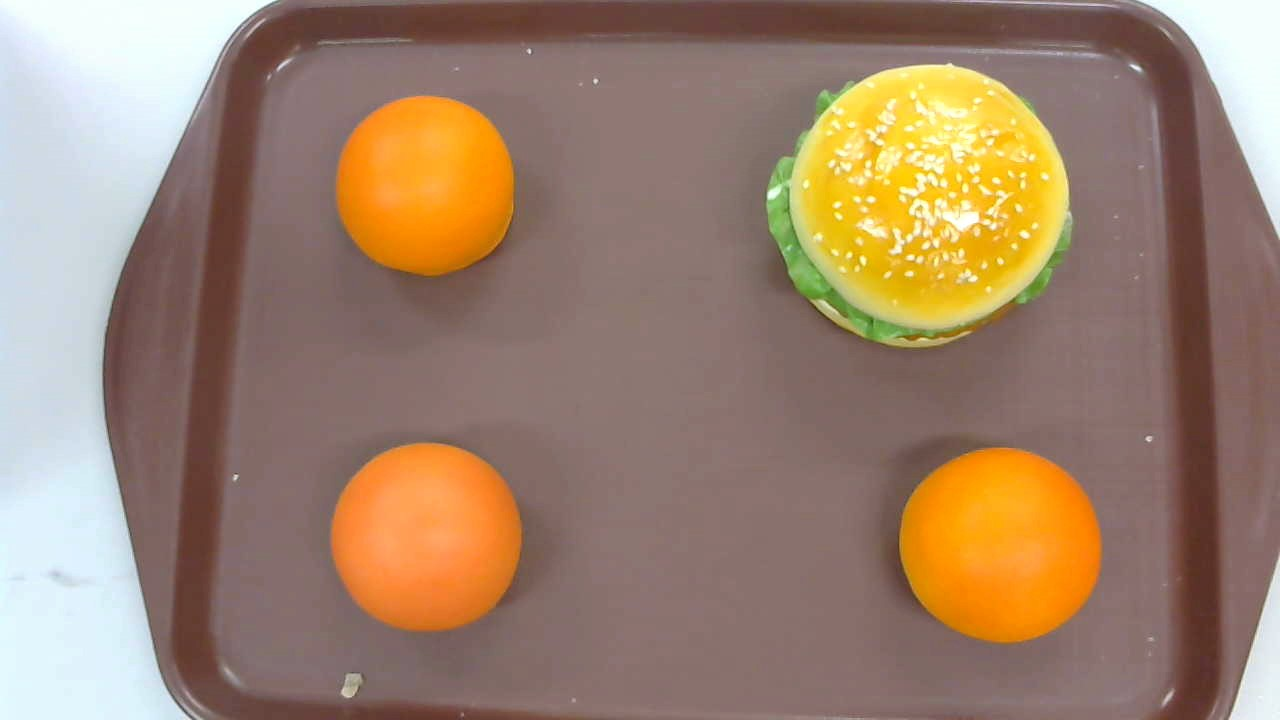bun: (899, 447, 1103, 643), (330, 440, 524, 633), (336, 93, 516, 278)
hamburger: (766, 61, 1071, 348)
